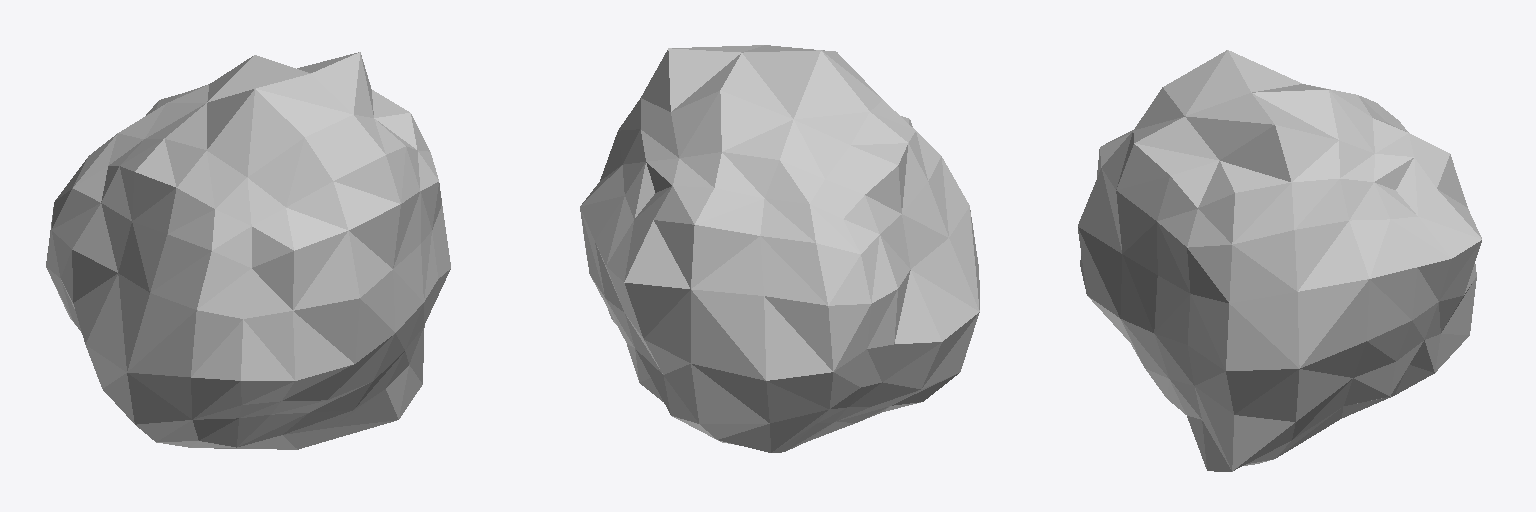
Rendered from rock4.obj.
3 renders of one model, left to right at view 1: azimuth 30°, elevation 25°; view 2: azimuth 150°, elevation 25°; view 3: azimuth 270°, elevation 25°, orthographic.
Parts seen in each view (by area): view 1: Mesh; view 2: Mesh; view 3: Mesh.
Boxes of the visible parts, <box> form: Mesh: <box>46,52,450,449</box>; Mesh: <box>580,45,979,452</box>; Mesh: <box>1078,50,1481,471</box>.
Size of the model in its own units: 2.45 by 2.62 by 2.49.